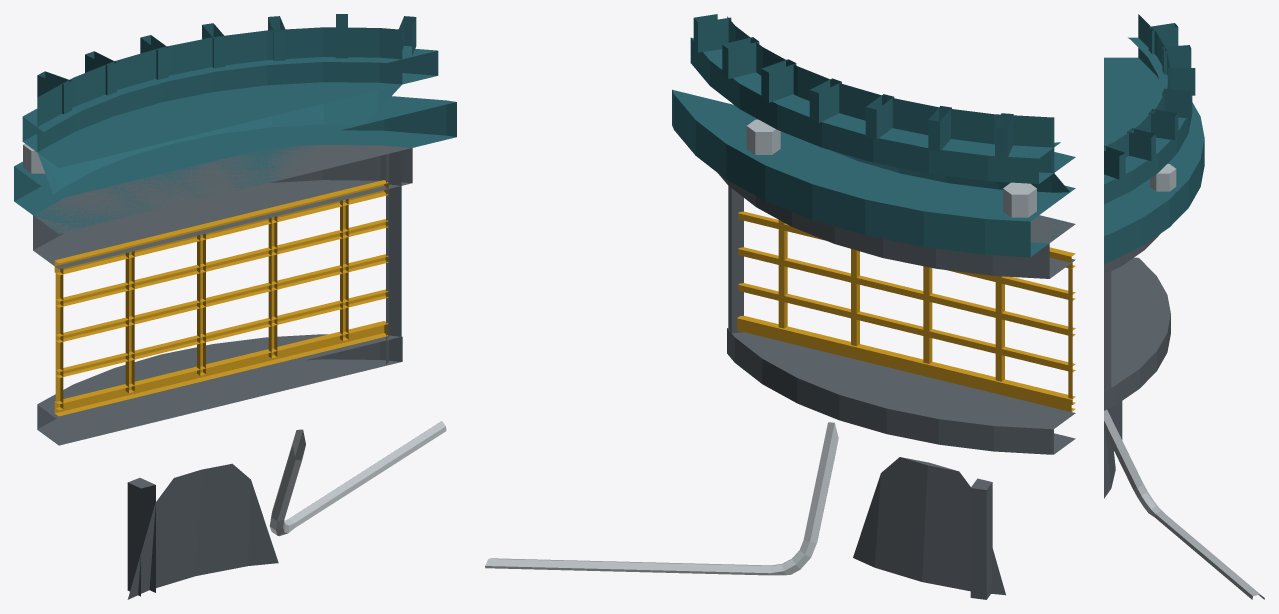
Rendered from cell_25.obj.
3 renders of one model, left to right at view 1: azimuth 30°, elevation 25°; view 2: azimuth 150°, elevation 25°; view 3: azimuth 270°, elevation 25°, orthographic. The views are drawn at different scales.
Bounding box in the file's own units: 1 × 1 × 0.3647.
